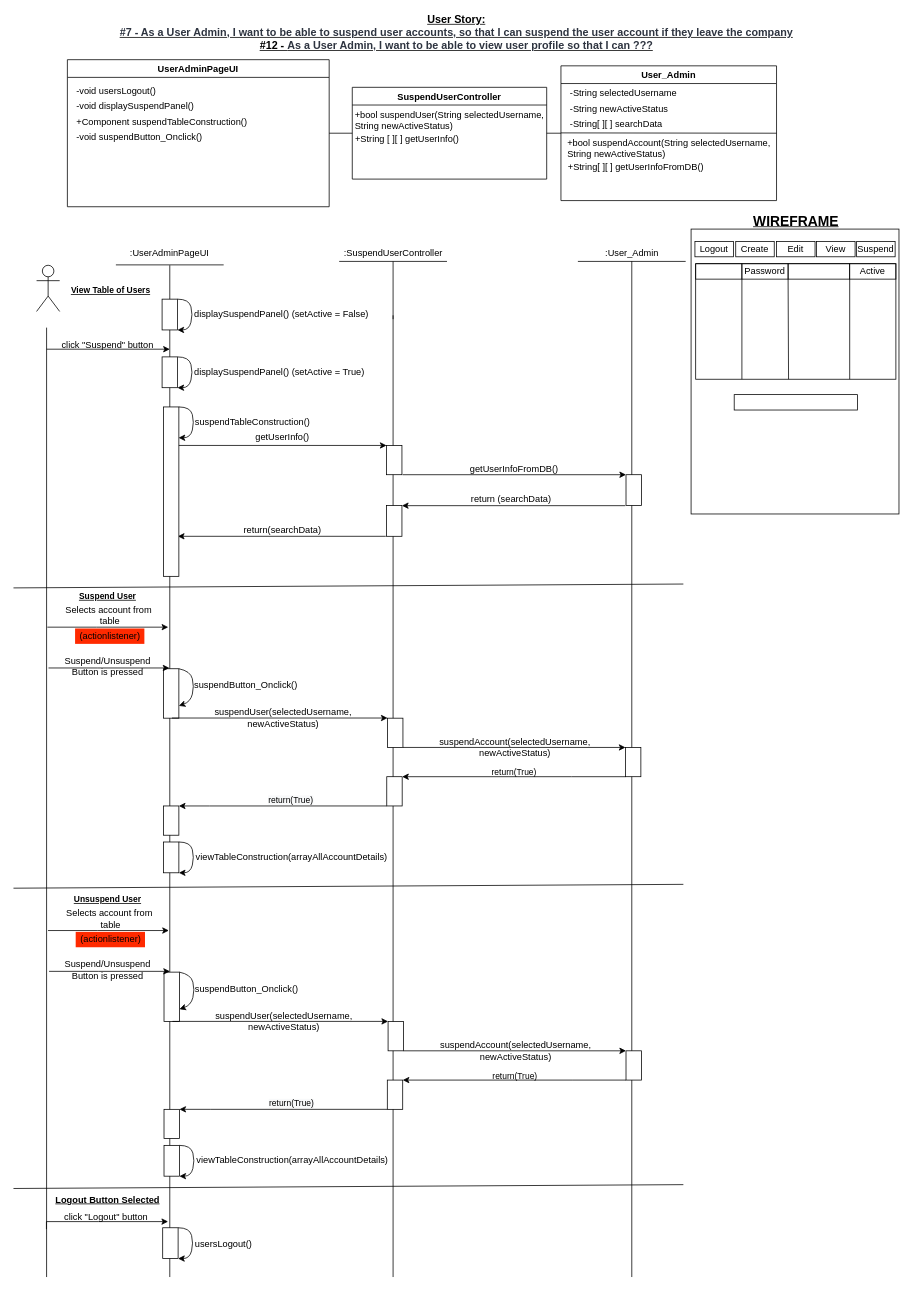
This 912x1291 diagram has some shape labels left out. The shapes that lost their labels are listed below. From the top down, each one's centre as x and y in pixels, then its label:
At (48,287): "User Admin".
At (718,271): "Username".
At (818,271): "User Profile".
At (795,402): "Suspend / Unsuspend User".
